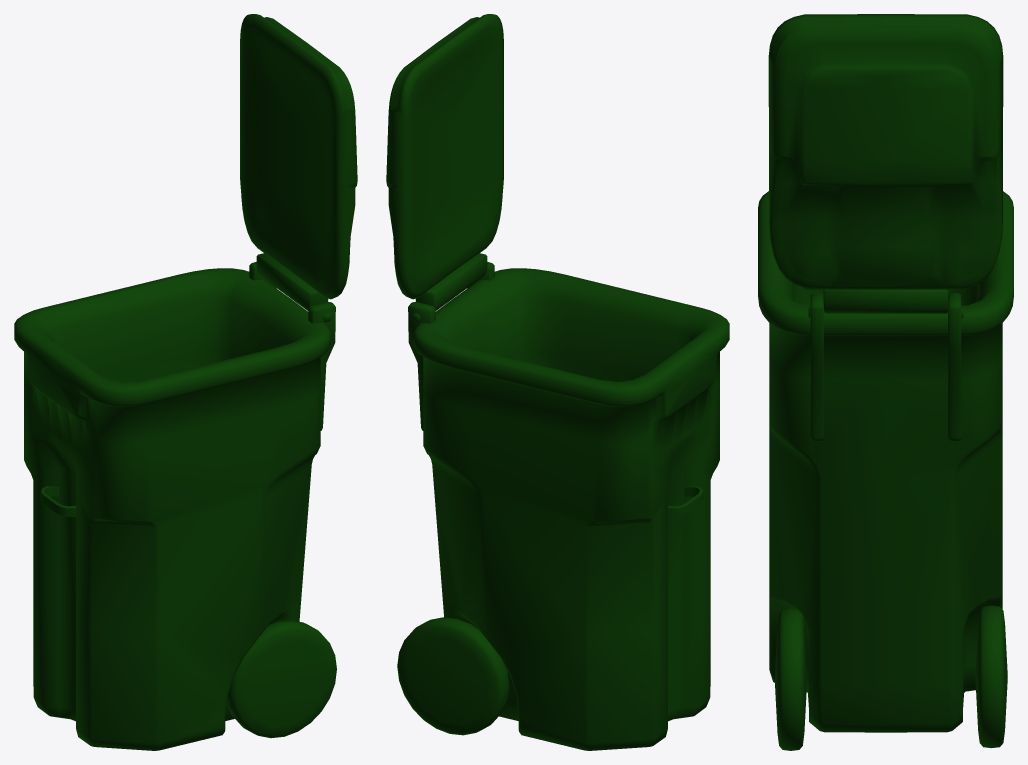
The model's file is recycle.obj.
3 renders of one model, left to right at view 1: azimuth 30°, elevation 25°; view 2: azimuth 150°, elevation 25°; view 3: azimuth 270°, elevation 25°, orthographic. The views are drawn at different scales.
Visible parts, largest first — view 1: LP; view 2: LP; view 3: LP.
Part boxes in pixels (x1=…): LP: x1=14, y1=14, x2=357, y2=750; LP: x1=386, y1=14, x2=729, y2=750; LP: x1=758, y1=14, x2=1013, y2=750.
Bounding box in the file's own units: 0.775 × 1.8 × 0.5486.
